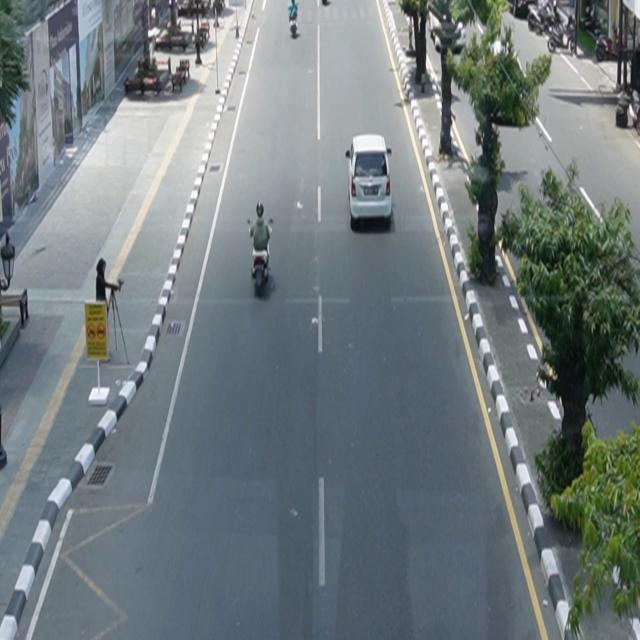car: (346, 134, 393, 227)
